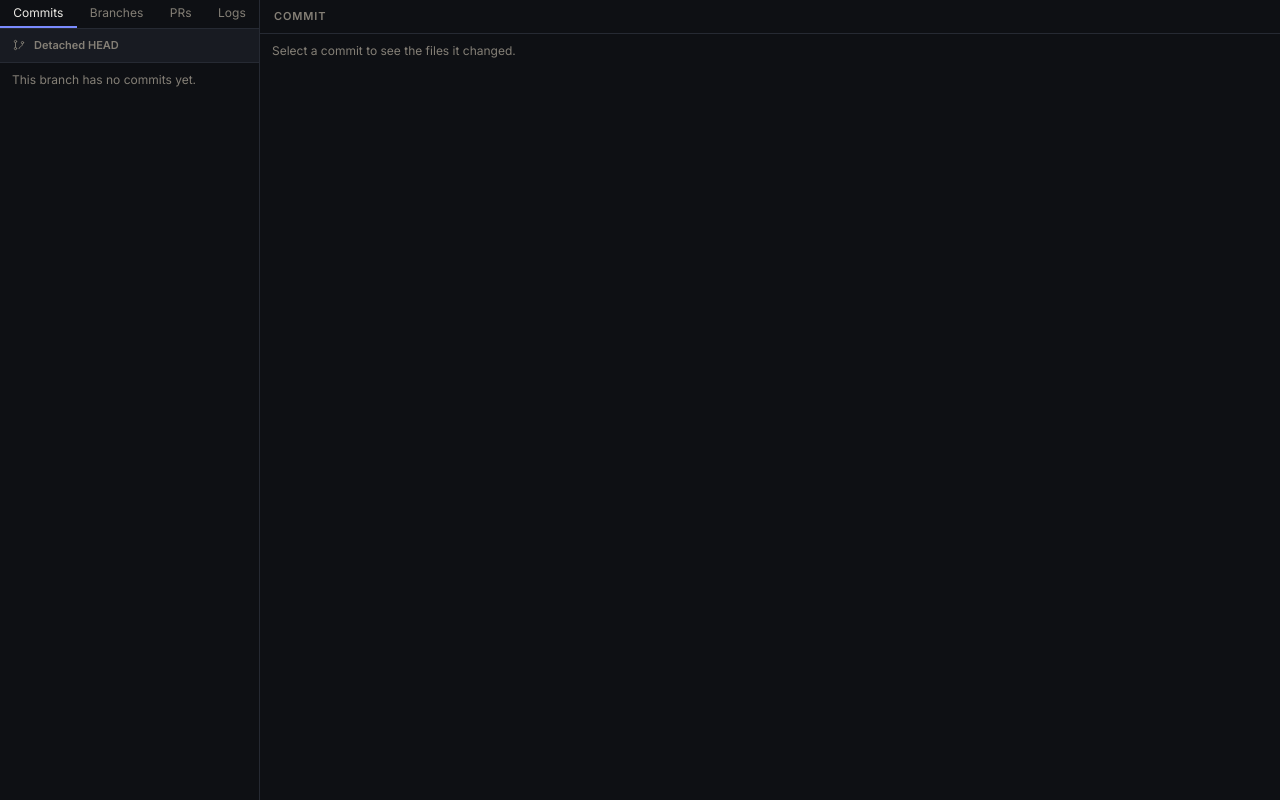
refusals read at the inspection (GIT-FR-GAMV) › GIT-FR-GAMV, GIT-FR-QYWP: branch_in_primary_worktree shows beside the row, opens no confirmation and switches nothing
The image size is (1280, 800).
Click the tab "Branches" at (117, 12), box [90,5,143,20]
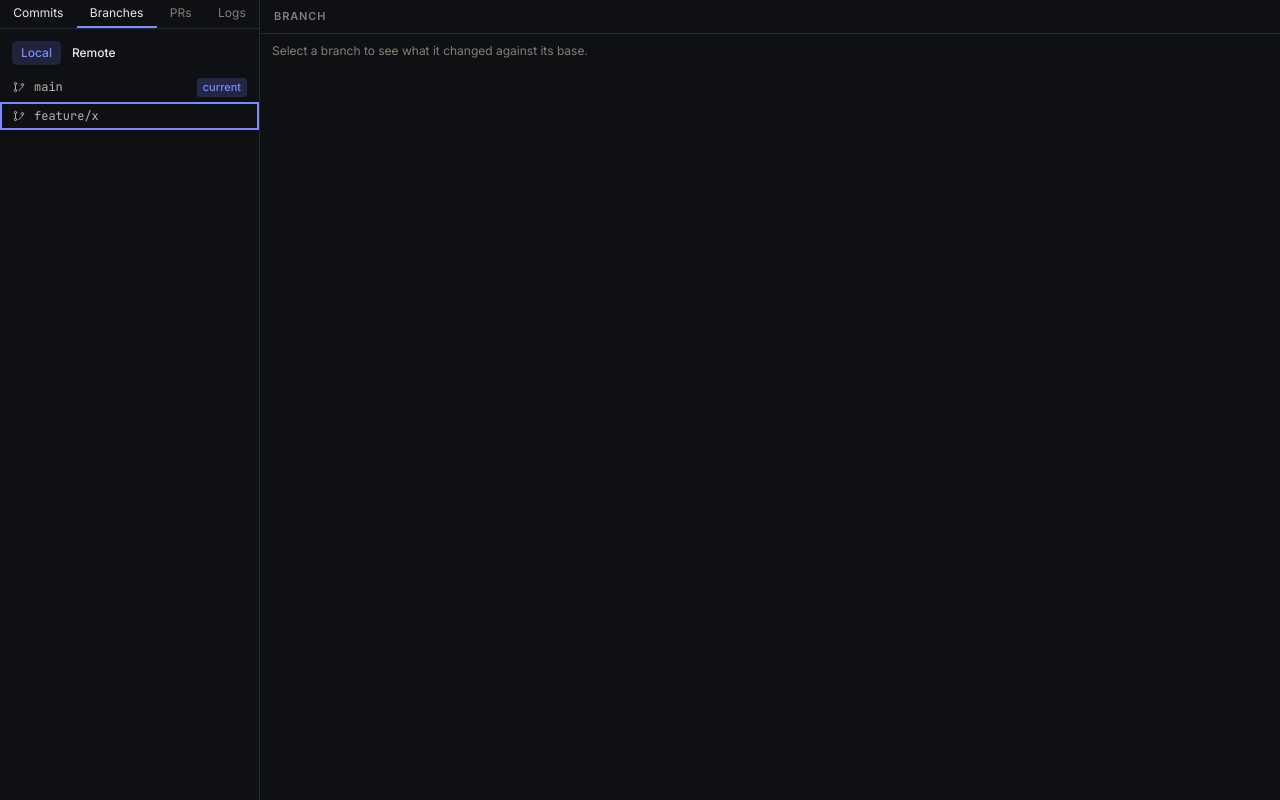
expect the text "feature/x" is shown: met, box [34,108,99,124]
Press Contextmenu
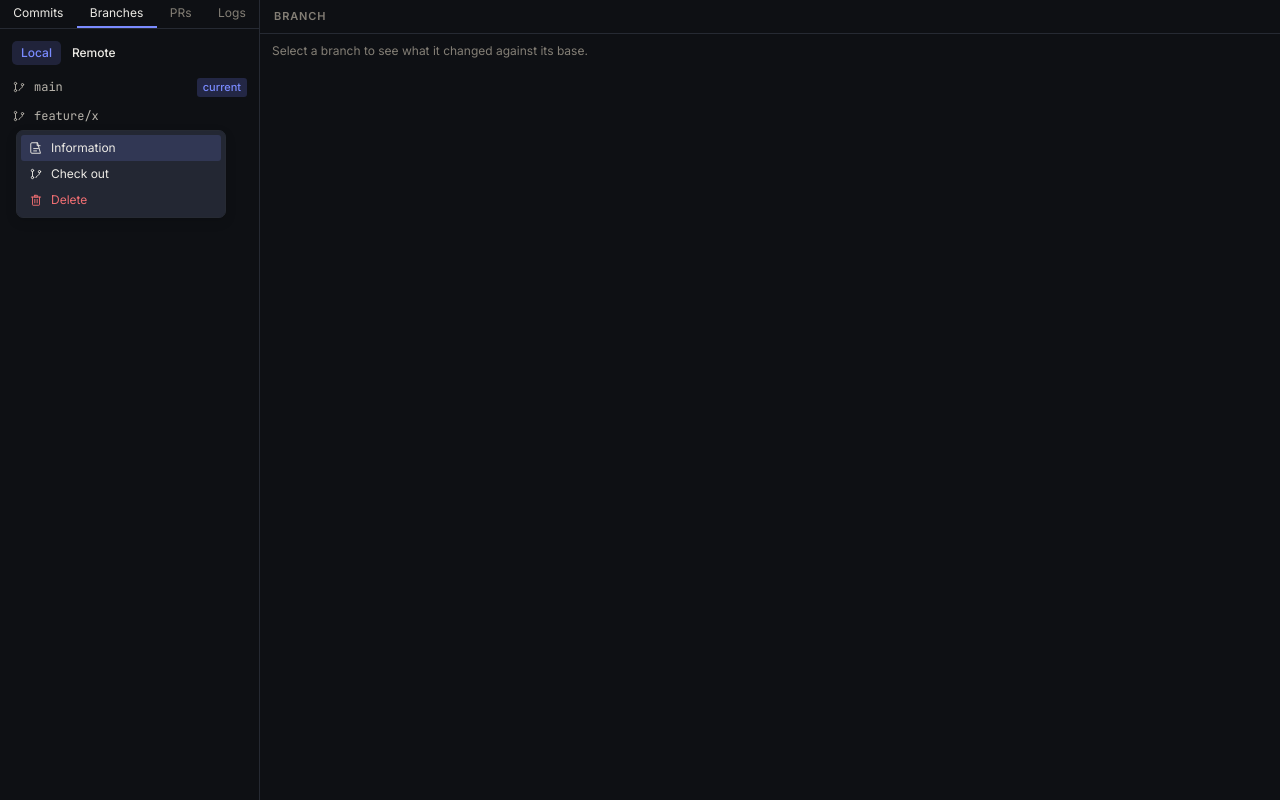
Click the menu item "Delete" at (121, 200), box [21,186,221,212]
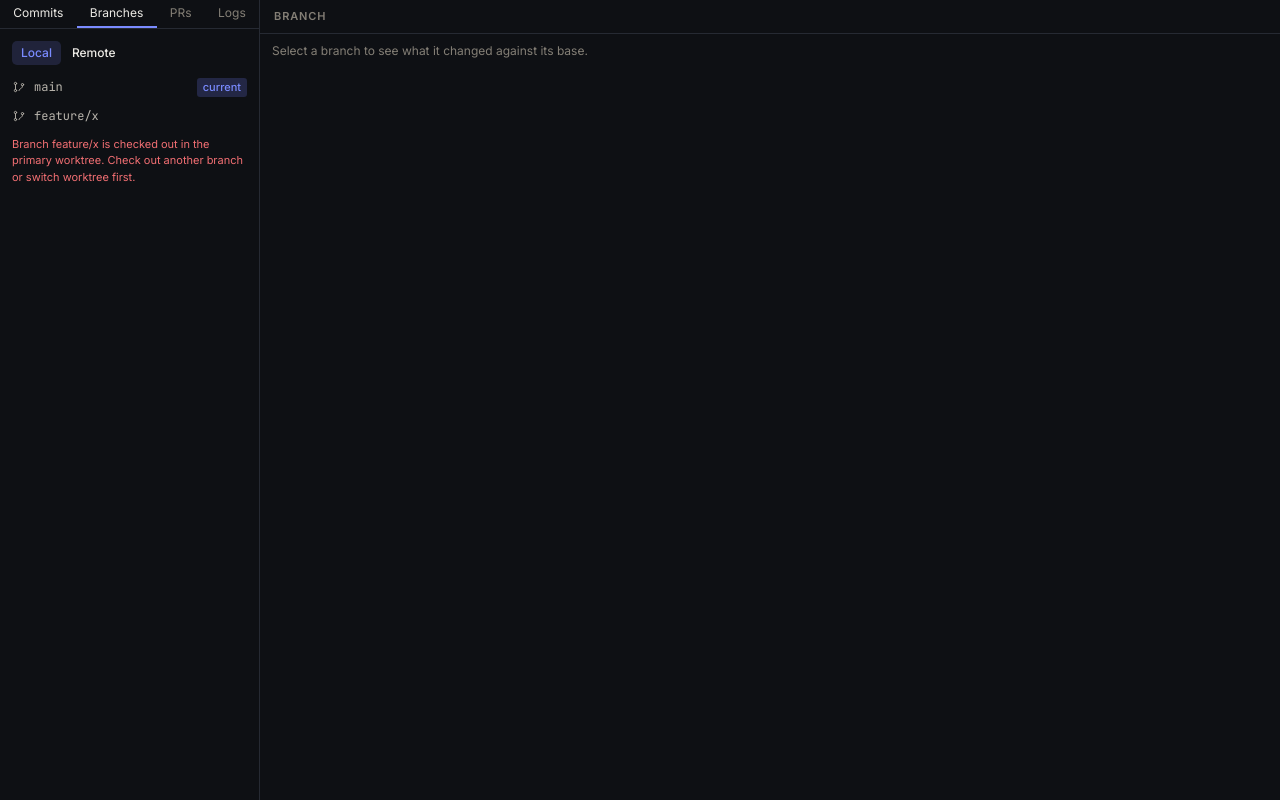
expect the message with test id "git-branch-refusal" shows "Branch feature/x is checked out in the primary worktree. Check out another branch or switch worktree first.": met, box [12,136,243,184]
